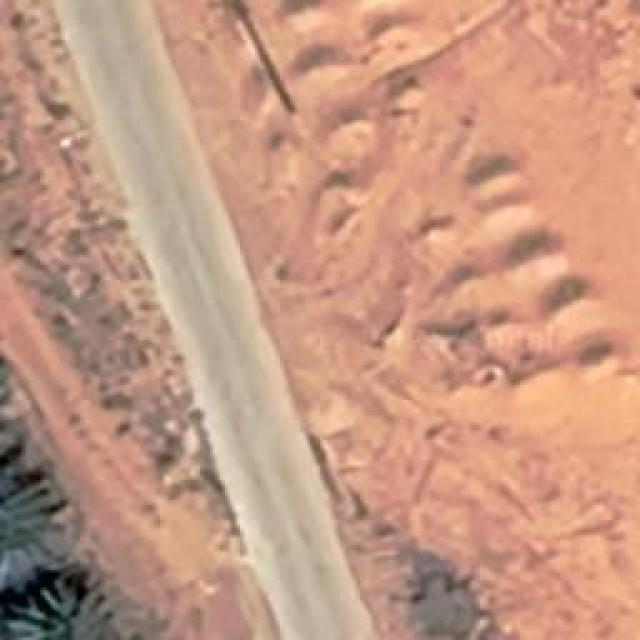PalmTree: (0, 578, 118, 638), (0, 479, 62, 582)
